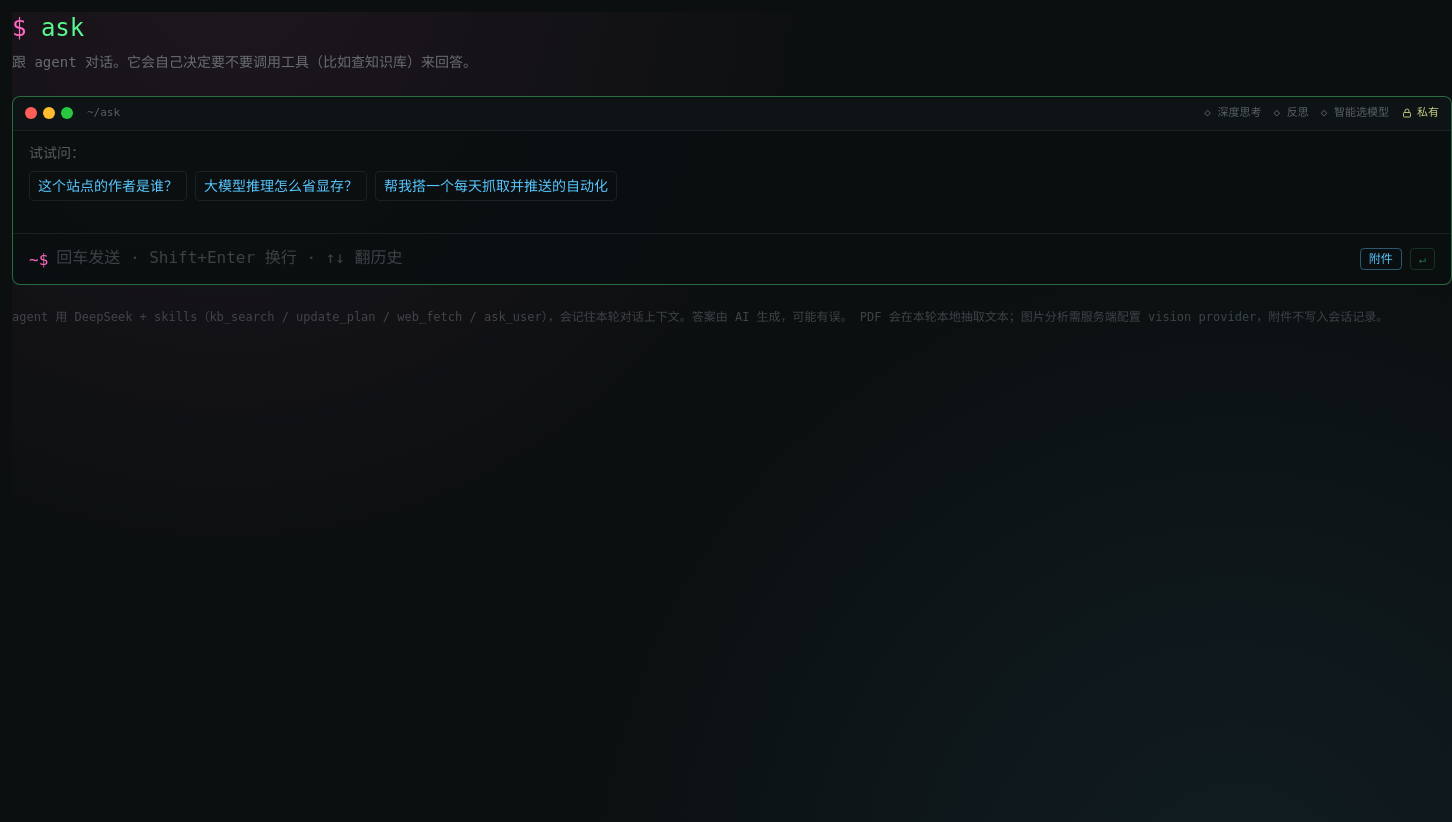
Ask private mode › 解锁后 chat 走 /api/agent/chat + Authorization: Bearer
This screenshot has width=1452, height=822.
Note: 打开解锁面板 → 输 TOTP → 解锁
Click the button titled "TOTP 解锁私有模式" at [1420, 113], box [1401,105,1439,122]
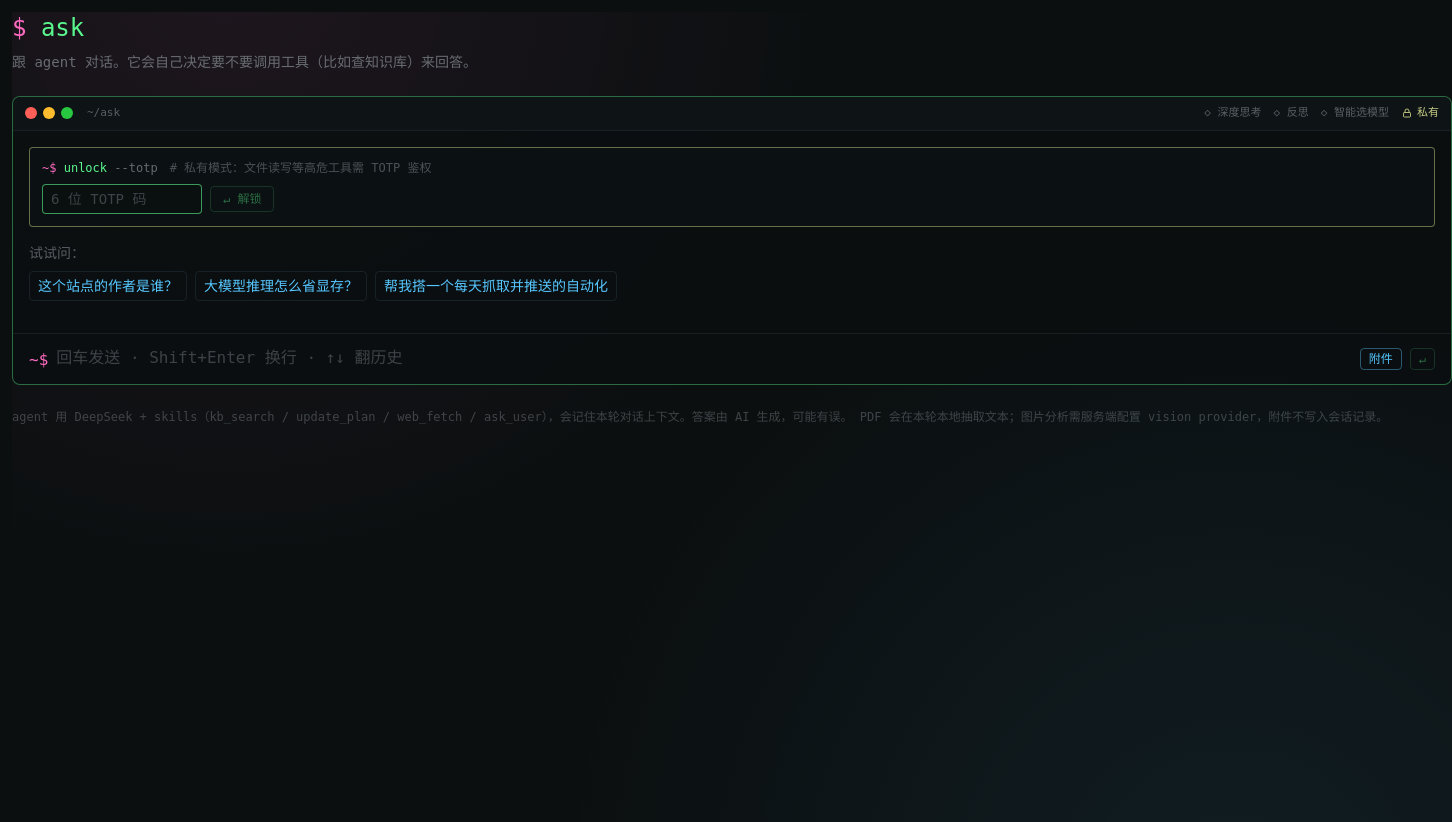
Type "123456" into the field with placeholder "6 位 TOTP 码" at [122, 198], box [42,184,202,214]
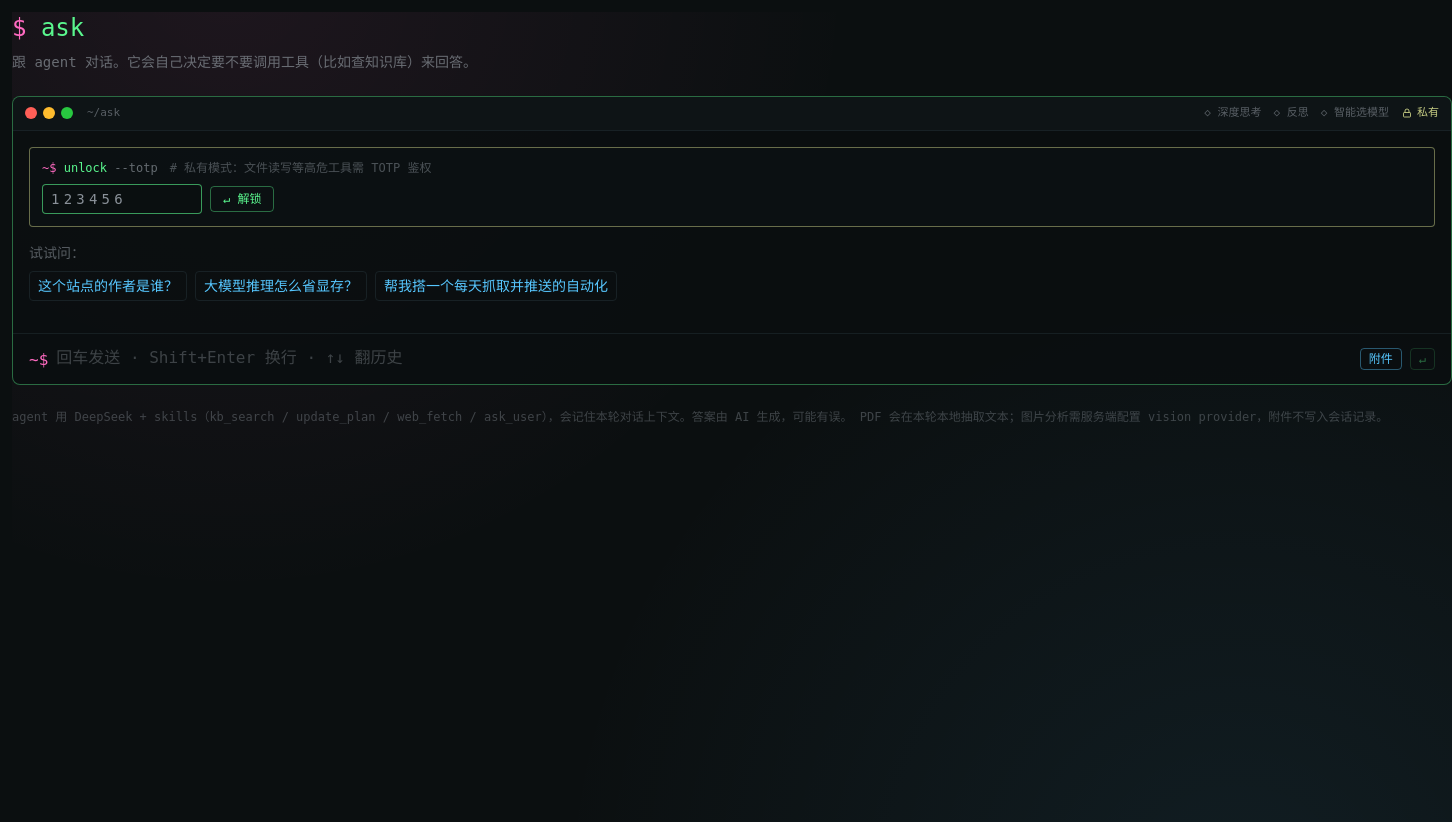
Click the button "↵ 解锁" at [242, 198], box [210,186,274,212]
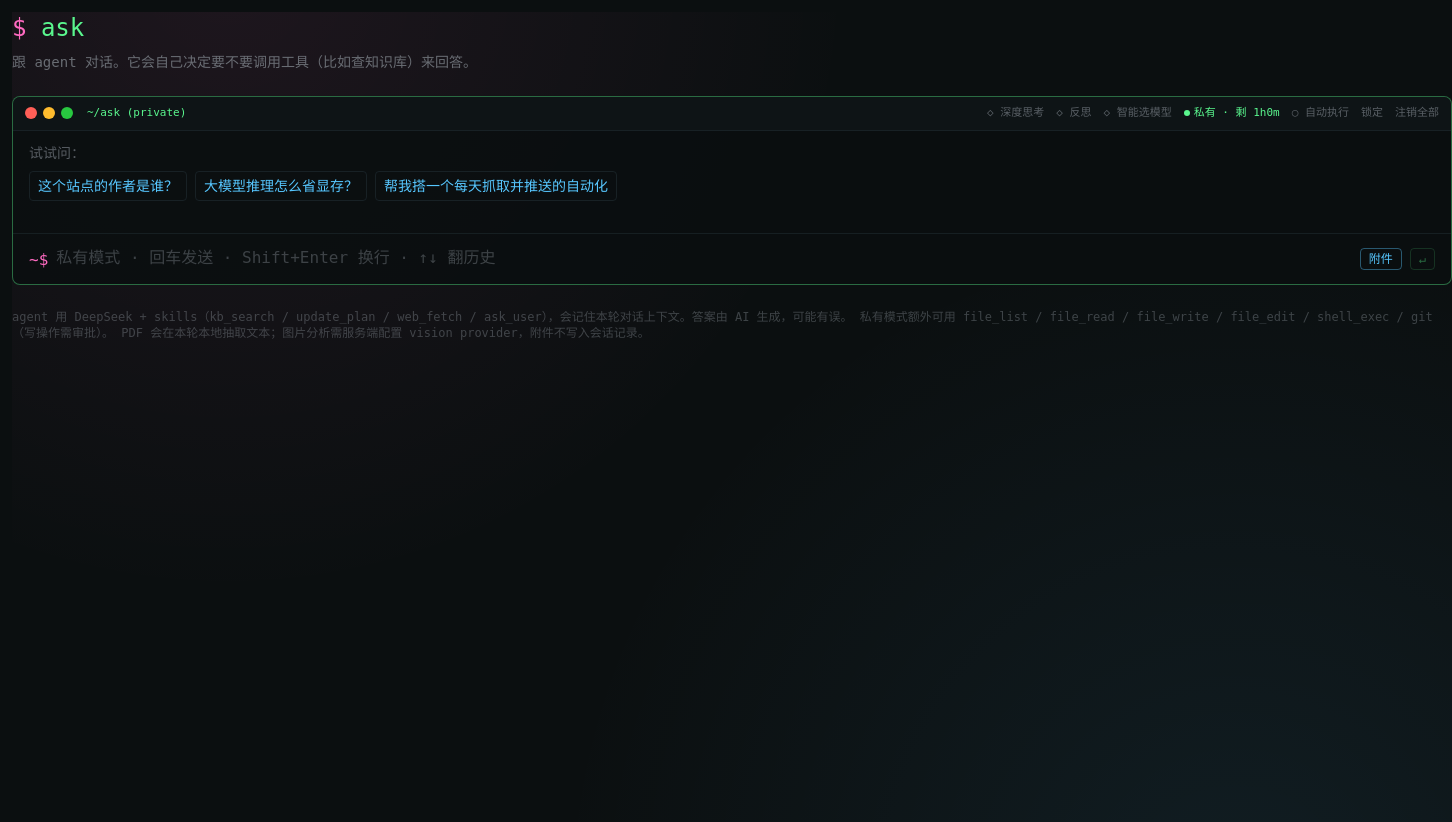
Now the text "私有 · 剩 1h0m" is shown, box [1184,105,1280,122]
Note: 发一条对话 → 打私有端点、带 Bearer
Type "读下文件" into the text box with placeholder "私有模式 · 回车发送 · Shift+Enter 换行 · ↑↓ 翻历史" at [704, 258], box [56,246,1352,270]
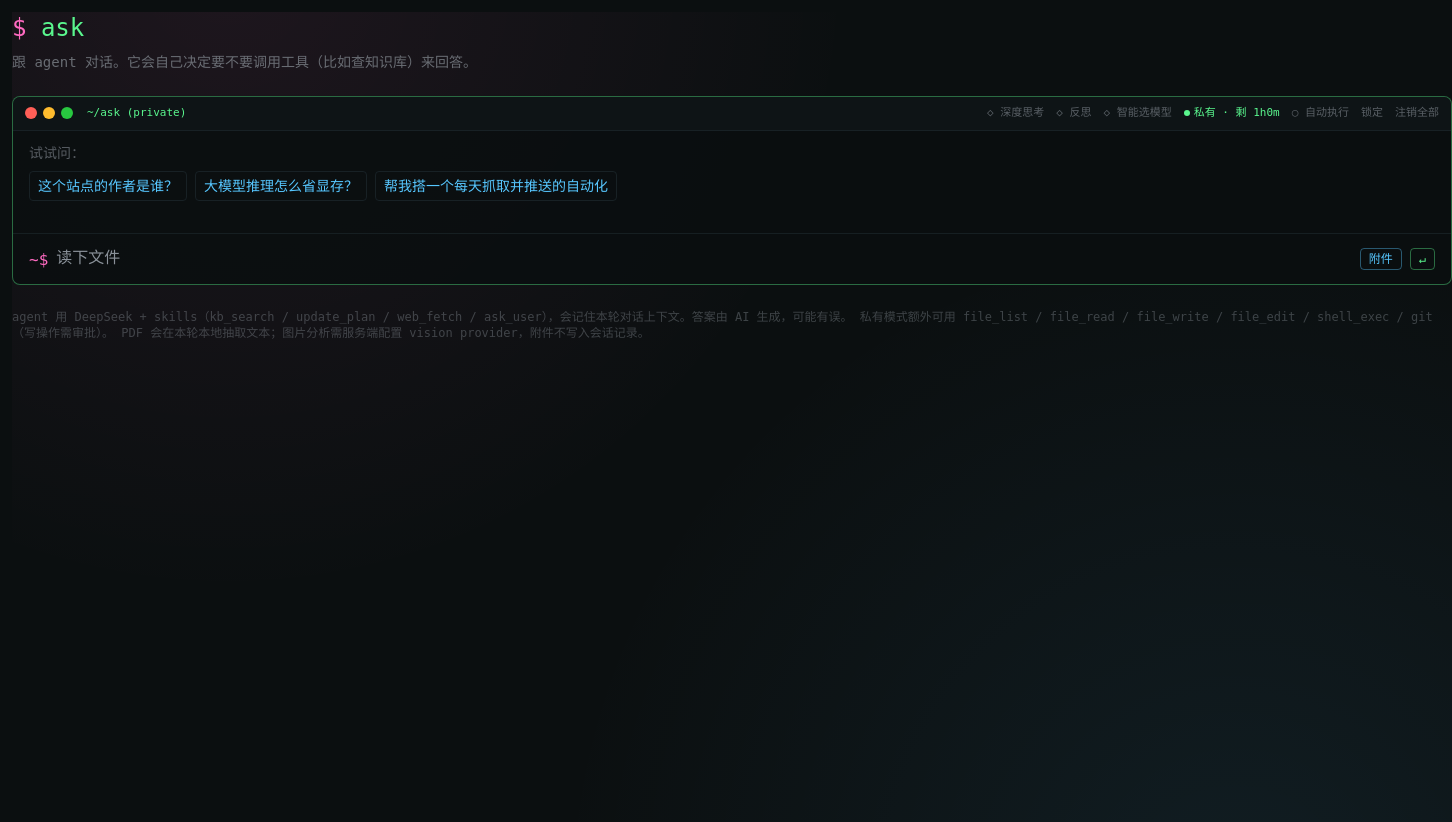
Submit the form, box [13,232,1451,284]
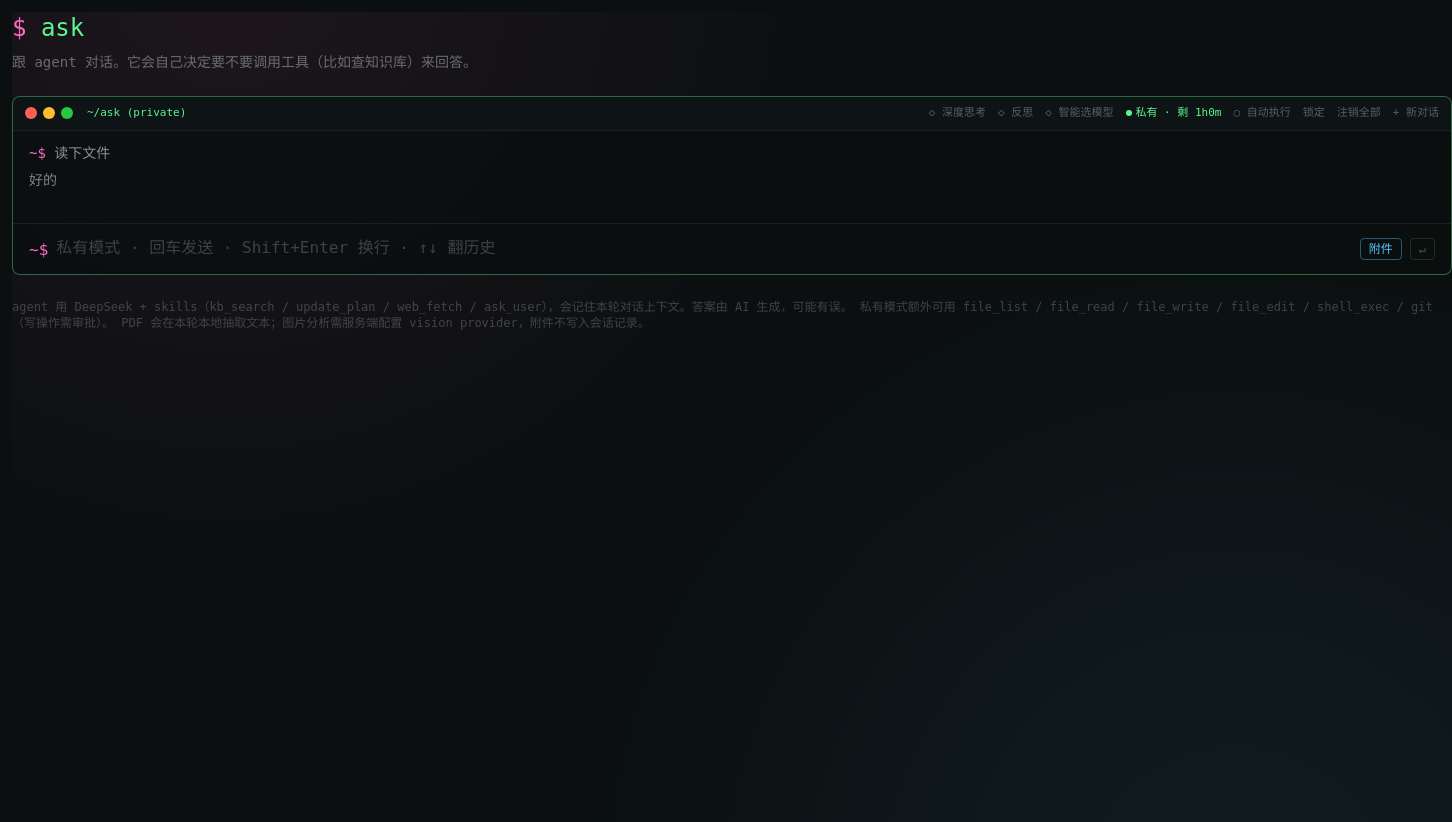
Now the text "好的" is shown, box [29,172,57,188]
